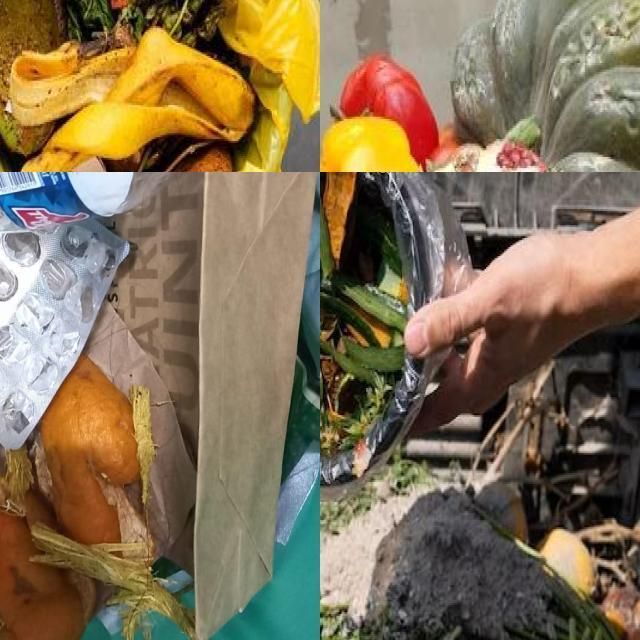Garbage: (0, 172, 320, 640), (320, 444, 640, 640), (320, 0, 640, 172)
Plastic: (0, 219, 128, 450)
Plastic_Bag: (283, 172, 320, 476)
